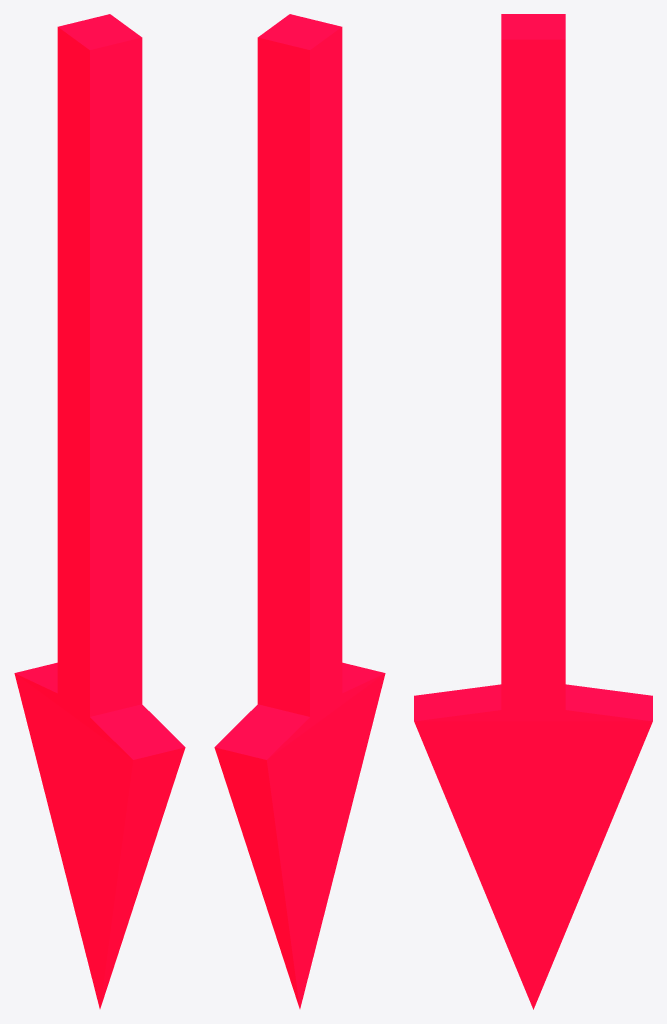
Rendered from Arrow.fbx.
3 views of the same model, side by side, from view 1: azimuth 30°, elevation 25°; view 2: azimuth 150°, elevation 25°; view 3: azimuth 270°, elevation 25° (orthographic).
Visible parts, largest first — view 1: Cone; view 2: Cone; view 3: Cone.
Boxes of the visible parts, x1=… form: Cone: x1=14, y1=14, x2=185, y2=1008; Cone: x1=214, y1=14, x2=385, y2=1008; Cone: x1=414, y1=14, x2=652, y2=1009.
Bounding box in the file's own units: 59.39 × 1060 × 233.
